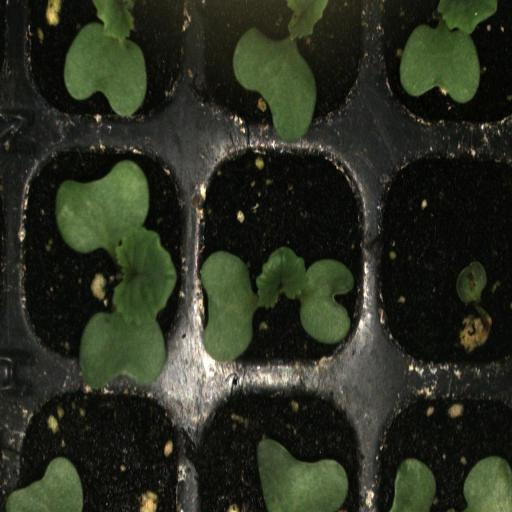Folha: (257, 438, 349, 512), (5, 456, 83, 512), (463, 456, 512, 512)
Germinacao: (20, 128, 190, 382), (194, 134, 372, 376), (373, 139, 512, 378), (194, 0, 373, 133), (18, 0, 194, 133), (376, 0, 512, 138)
